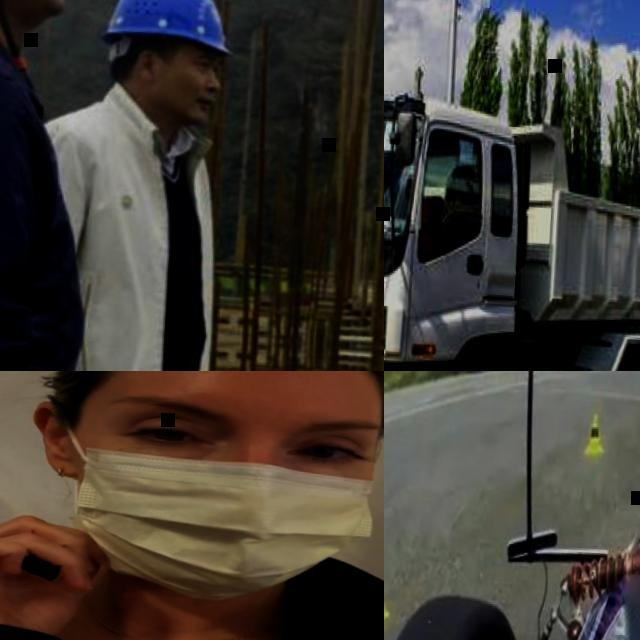Hardhat: (98, 0, 238, 56)
Mask: (74, 443, 384, 597)
NO-Hardhat: (67, 371, 384, 395)
NO-Mask: (146, 81, 215, 125), (0, 0, 72, 23)
NO-Safety Vest: (38, 114, 215, 371), (0, 27, 96, 371), (0, 580, 384, 640)
Person: (0, 371, 384, 640), (18, 0, 241, 371), (0, 0, 109, 371)
Safety Cone: (583, 413, 605, 457)
machinery: (384, 69, 640, 371)
vehicle: (384, 371, 640, 640)
